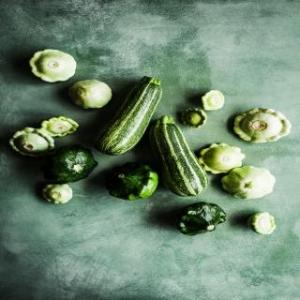zucchini: (97, 67, 167, 157)
